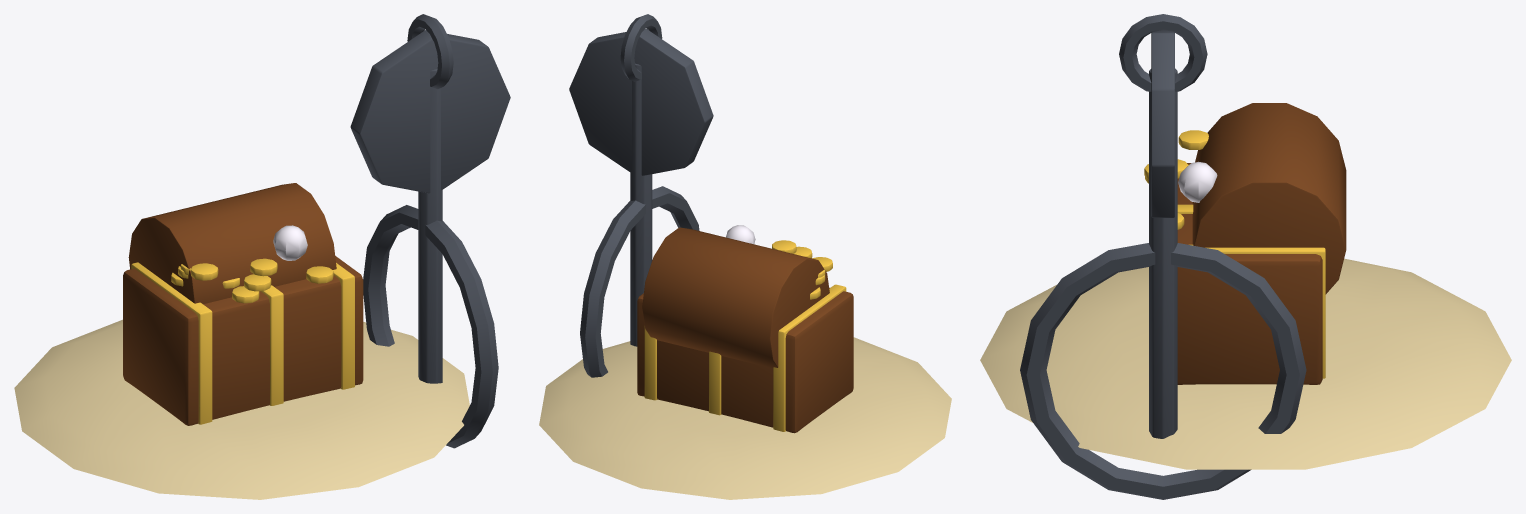
File: HeroReef.fbx
3 renders of one model, left to right at view 1: azimuth 30°, elevation 25°; view 2: azimuth 150°, elevation 25°; view 3: azimuth 270°, elevation 25°, orthographic. The views are drawn at different scales.
Parts seen in each view (by area): view 1: HeroReef; view 2: HeroReef; view 3: HeroReef.
Boxes of the visible parts, x1=… form: HeroReef: x1=14, y1=14, x2=510, y2=499; HeroReef: x1=539, y1=14, x2=951, y2=499; HeroReef: x1=980, y1=14, x2=1511, y2=499.
Bounding box in the file's own units: 948 × 908 × 900.
